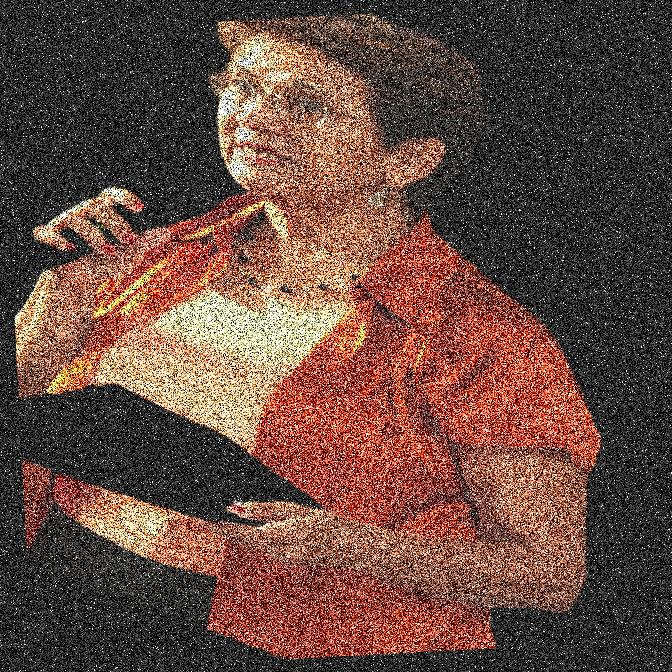Pessoa: (270, 0, 413, 671)
